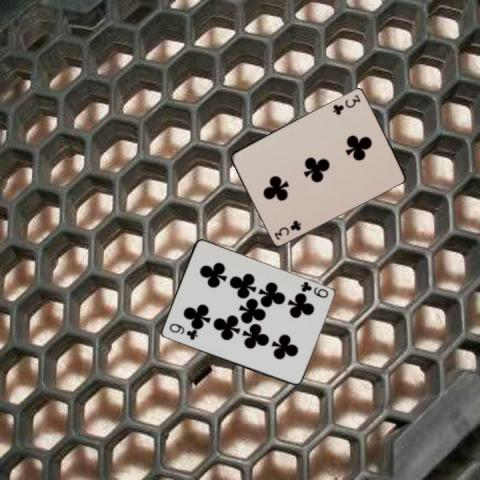3c: (330, 91, 362, 116), (271, 217, 303, 241)
9c: (166, 321, 199, 341), (298, 279, 330, 299)
